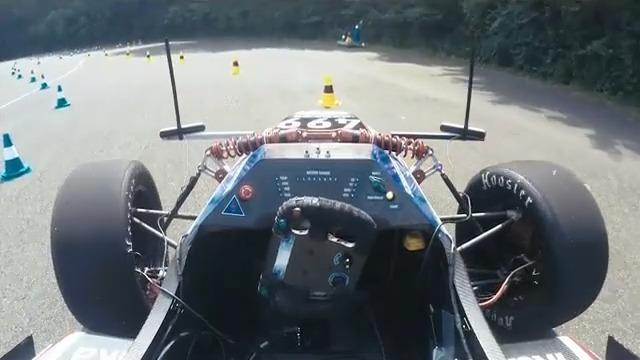blue_cone: (0, 133, 34, 184), (54, 85, 71, 109), (39, 74, 51, 91), (29, 69, 38, 83)
yellow_cone: (317, 74, 342, 109), (230, 57, 243, 75)
